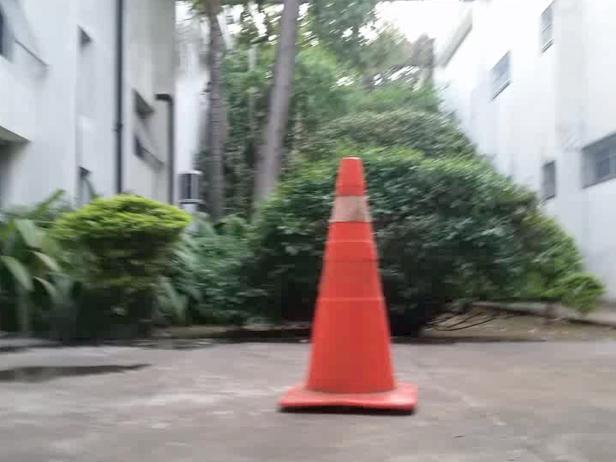0 cone: (278, 157, 418, 408)
